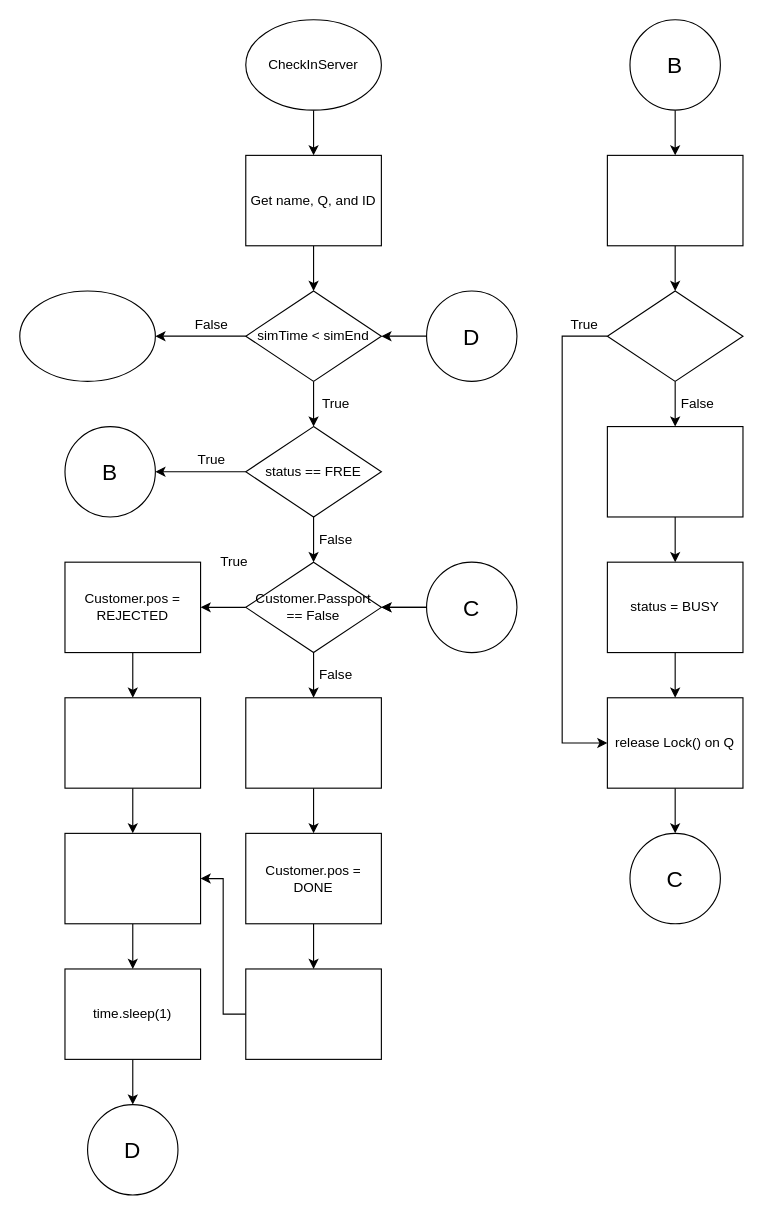
Image size: 763x1215. Some labels were removed from this diagram. Each missing label, with the centre of its shape:
"acquire Lock() on Q" belongs at point (674, 200).
"Customer = Q.get()" belongs at point (674, 471).
"End Thread" belongs at point (87, 335).
"exit.append (Customer)" belongs at point (313, 1013).
"Q != empty" belongs at point (674, 335).
"Q.Number += 1" belongs at point (132, 878).
"reject.append (Customer)" belongs at point (132, 742).
"time.sleep(-1<x<2)" belongs at point (313, 742).
